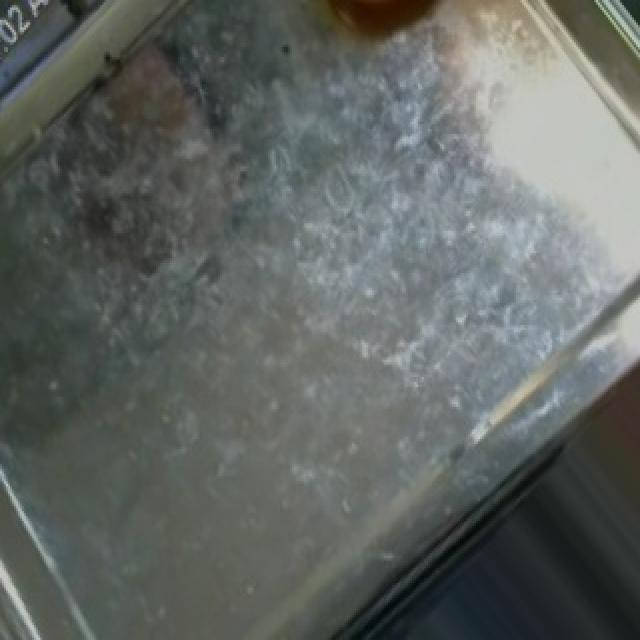Fruit: (20, 0, 240, 74)
